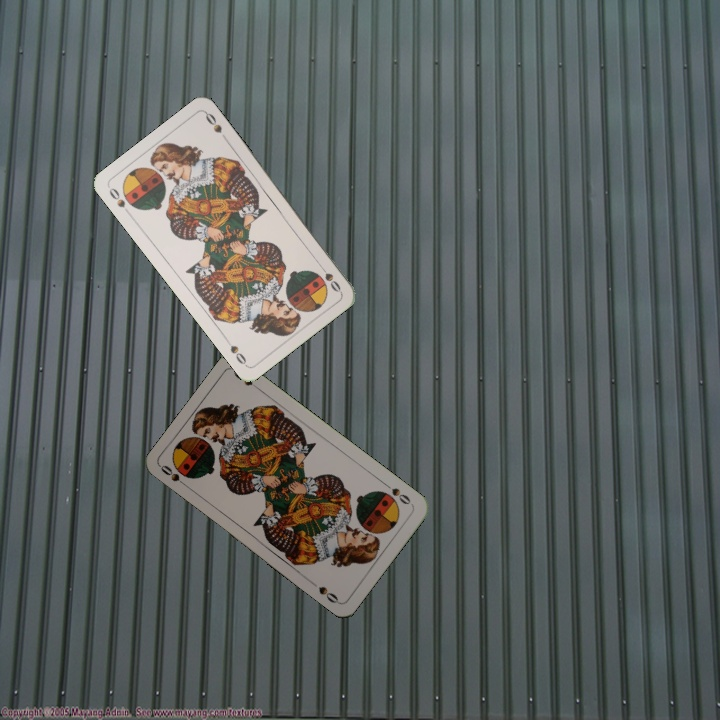SO: (157, 461, 192, 491), (105, 183, 134, 218), (315, 259, 343, 295), (380, 479, 413, 507)
